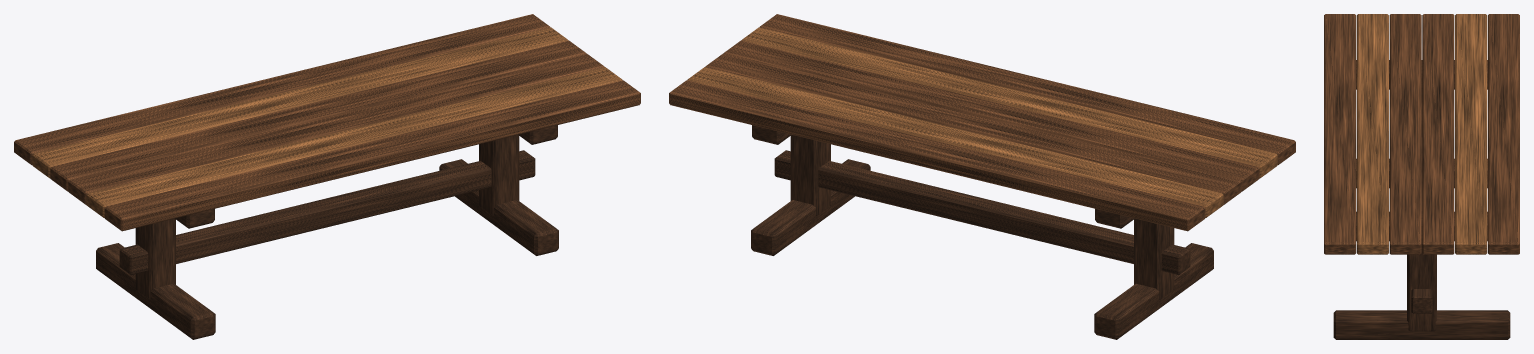
File: table_banquet.glb
3 renders of one model, left to right at view 1: azimuth 30°, elevation 25°; view 2: azimuth 150°, elevation 25°; view 3: azimuth 270°, elevation 25°, orthographic. The views are drawn at different scales.
Visible parts, largest first — view 1: oak, oak_dark, oak_light; view 2: oak, oak_dark, oak_light; view 3: oak, oak_light, oak_dark.
Boxes of the visible parts, bbox=[...] form: oak: bbox=[14, 14, 640, 231]; oak_dark: bbox=[96, 125, 558, 339]; oak_light: bbox=[32, 27, 622, 217]; oak: bbox=[669, 14, 1295, 231]; oak_dark: bbox=[751, 125, 1213, 339]; oak_light: bbox=[687, 27, 1277, 217]; oak: bbox=[1324, 14, 1519, 254]; oak_light: bbox=[1356, 14, 1487, 254]; oak_dark: bbox=[1333, 60, 1510, 339].
Bounding box in the file's own units: 3.1 × 0.825 × 1.12.
3 materials, 3 textured.
